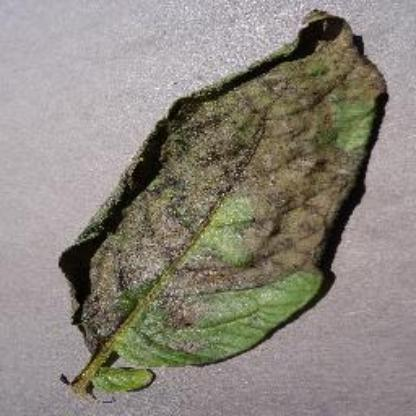Late-Blight: (46, 6, 392, 406)
